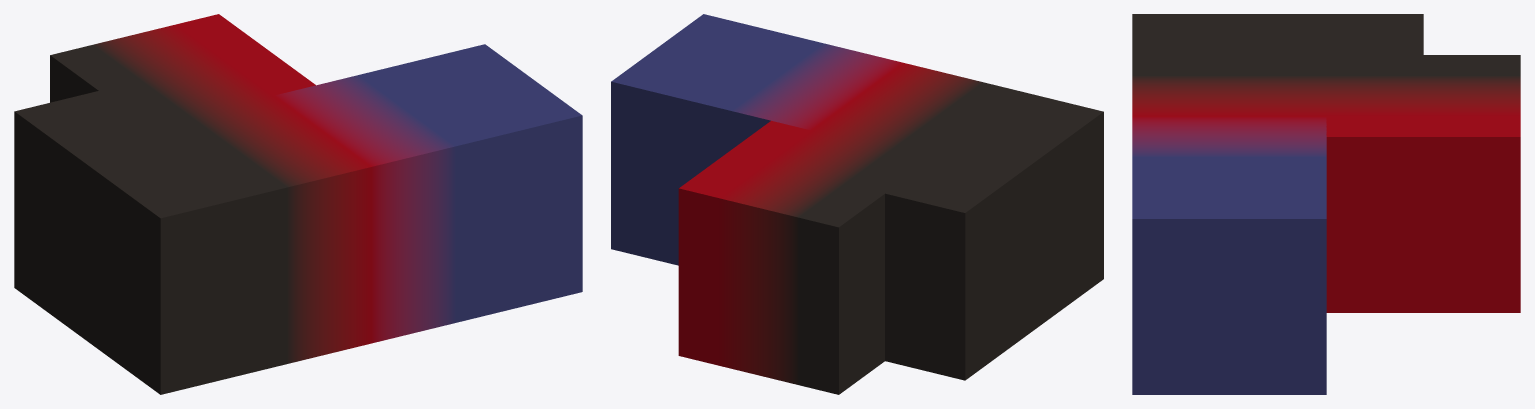
File: necromancer_armL_1.fbx
3 views of the same model, side by side, from view 1: azimuth 30°, elevation 25°; view 2: azimuth 150°, elevation 25°; view 3: azimuth 270°, elevation 25° (orthographic). The views are drawn at different scales.
Parts seen in each view (by area): view 1: necromancer_armL_1; view 2: necromancer_armL_1; view 3: necromancer_armL_1.
Boxes of the visible parts, x1=… form: necromancer_armL_1: x1=14, y1=14, x2=582, y2=394; necromancer_armL_1: x1=611, y1=14, x2=1103, y2=394; necromancer_armL_1: x1=1132, y1=14, x2=1520, y2=394.
Size of the model in its own units: 5 by 2 by 4.
1 material, 1 textured.
